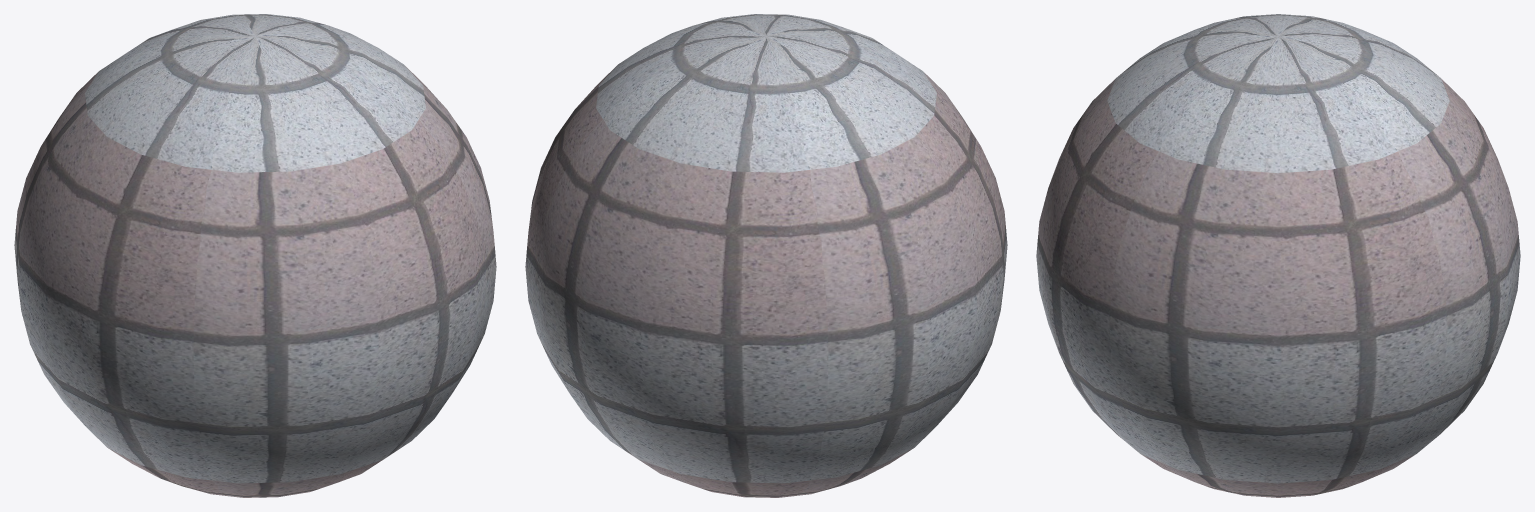
Rendered from Ball.obj.
3 views of the same model, side by side, from view 1: azimuth 30°, elevation 25°; view 2: azimuth 150°, elevation 25°; view 3: azimuth 270°, elevation 25° (orthographic).
Visible parts, largest first — view 1: Ball; view 2: Ball; view 3: Ball.
Part boxes in pixels (x1,y1,x2,y2): Ball: (14, 14, 496, 497); Ball: (525, 14, 1007, 497); Ball: (1036, 14, 1520, 497).
Bounding box in the file's own units: 2 × 2 × 2.
